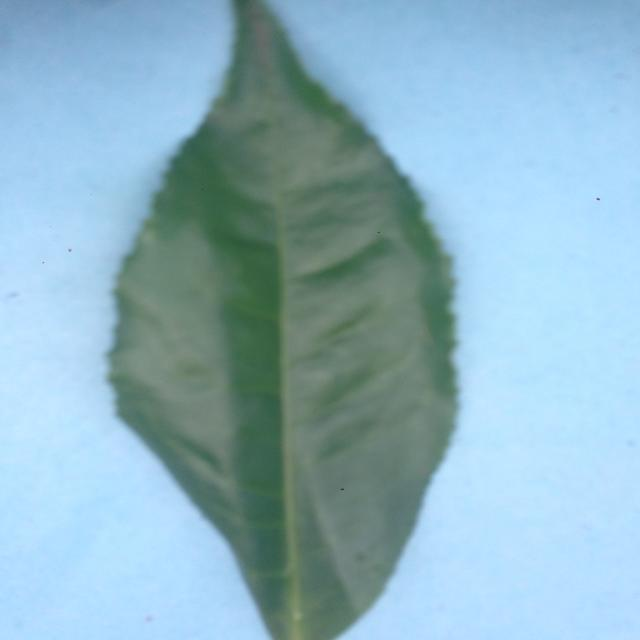Healthy: (62, 0, 545, 637)
